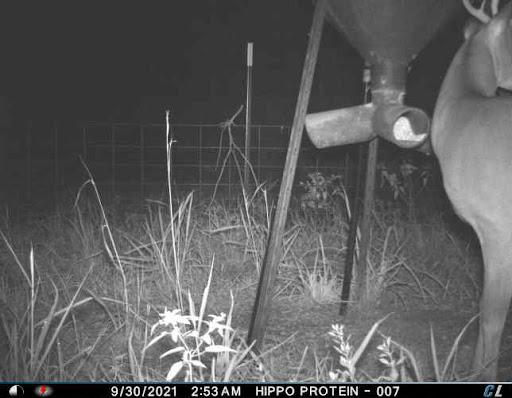Deer: (423, 0, 512, 384)
